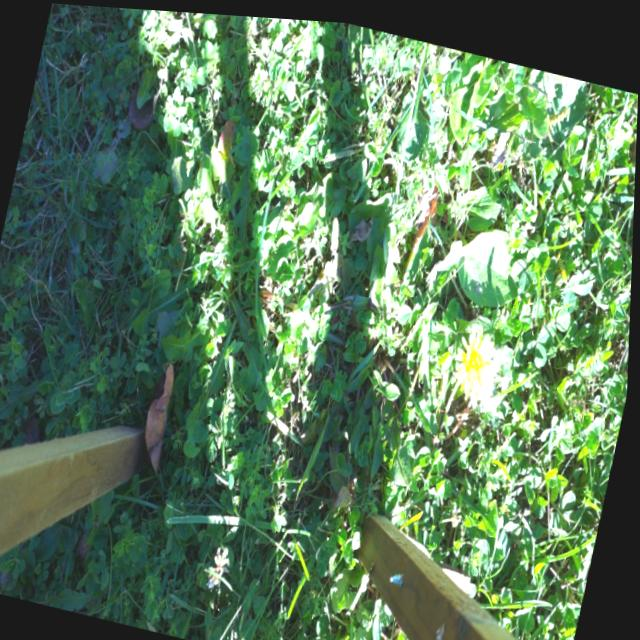base: (429, 411, 460, 450)
